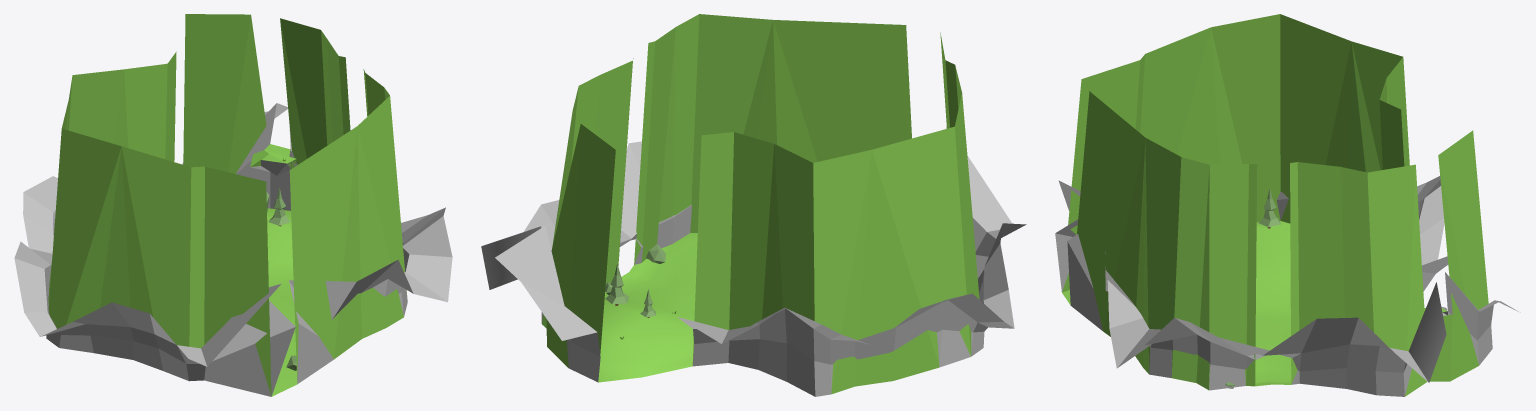
3 renders of one model, left to right at view 1: azimuth 30°, elevation 25°; view 2: azimuth 150°, elevation 25°; view 3: azimuth 270°, elevation 25°, orthographic. The views are drawn at different scales.
Visible parts, largest first — view 1: simple, level9; view 2: simple, level9; view 3: simple, level9.
Boxes of the visible parts, left/top/right/bottom form: simple: left=46, top=14, right=407, bottom=396; level9: left=14, top=103, right=452, bottom=396; simple: left=542, top=14, right=979, bottom=394; level9: left=481, top=127, right=1026, bottom=396; simple: left=1062, top=14, right=1488, bottom=396; level9: left=1055, top=176, right=1520, bottom=396.
Size of the model in its own units: 75.66 by 39.81 by 74.59.
